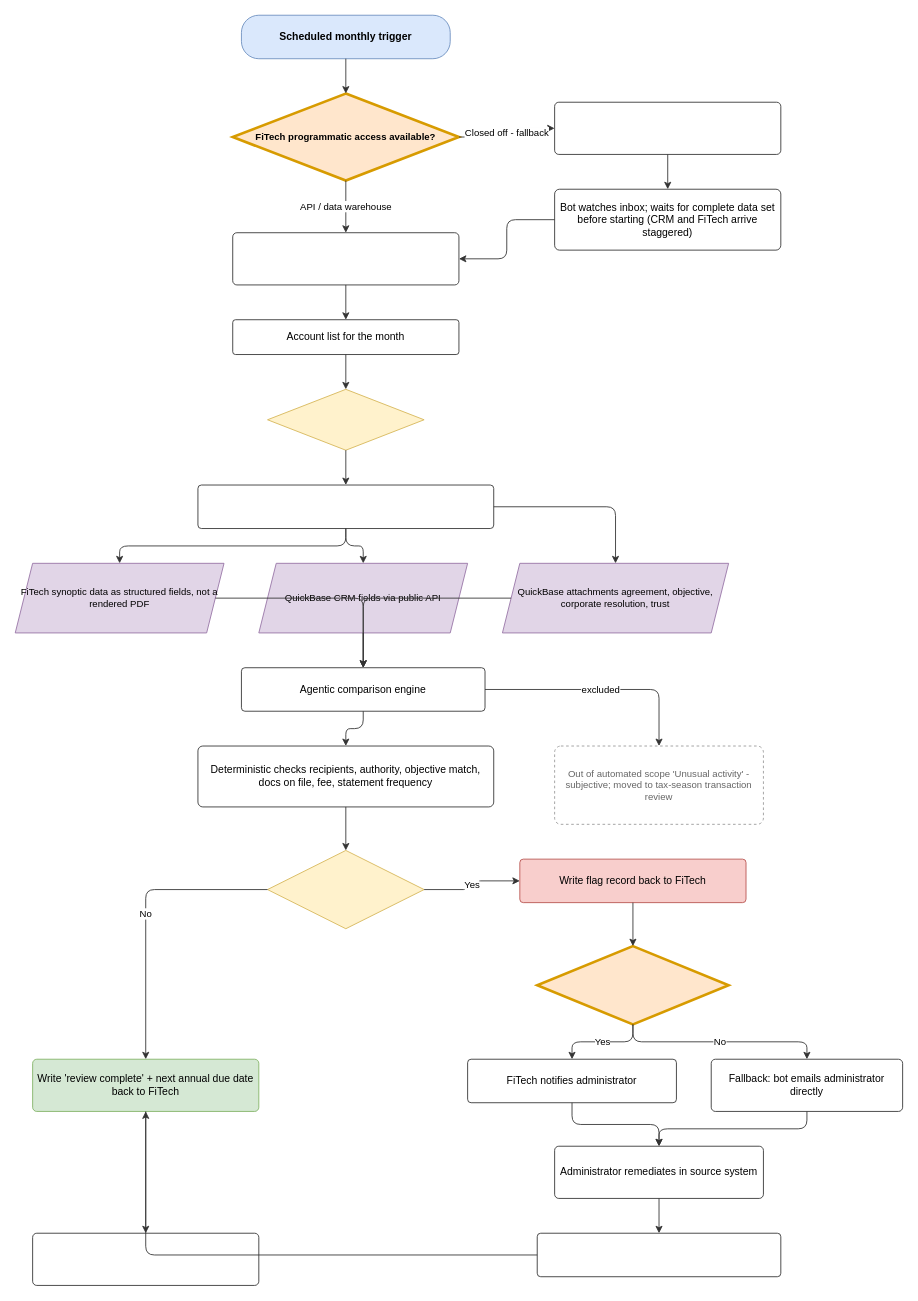
The diagram is 918 pixels wide and 1301 high, and some of its shapes have lost their labels. Each missing label, with the centre of its shape:
"Bot retrieves accounts with next review date this month" goes at [345,258].
"Discrepancy found?" goes at [345,889].
"FiTech pushes scheduled export to dedicated review inbox" goes at [667,127].
"For each account" goes at [345,419].
"Human-in-the-loop reviewer confirms" goes at [658,1254].
"Join records on ACCOUNT NUMBER (static identifier present in both systems)" goes at [345,506].
"Monthly summary report generated and distributed" goes at [145,1258].
"Write-back supported?" goes at [632,984].
